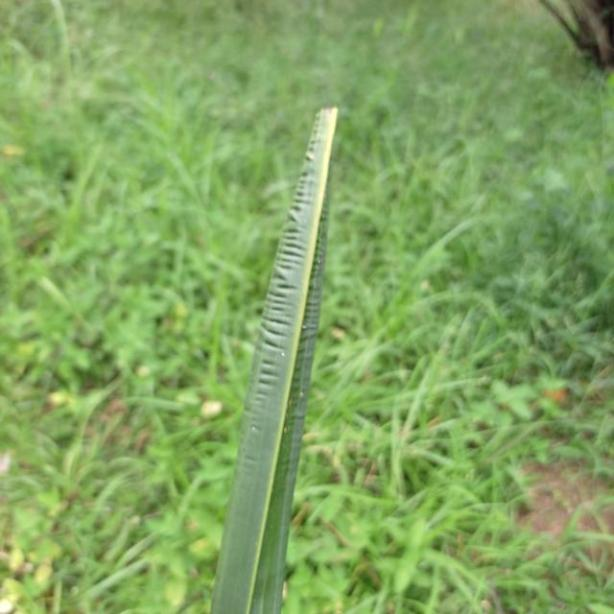Boron: (213, 107, 342, 614)
